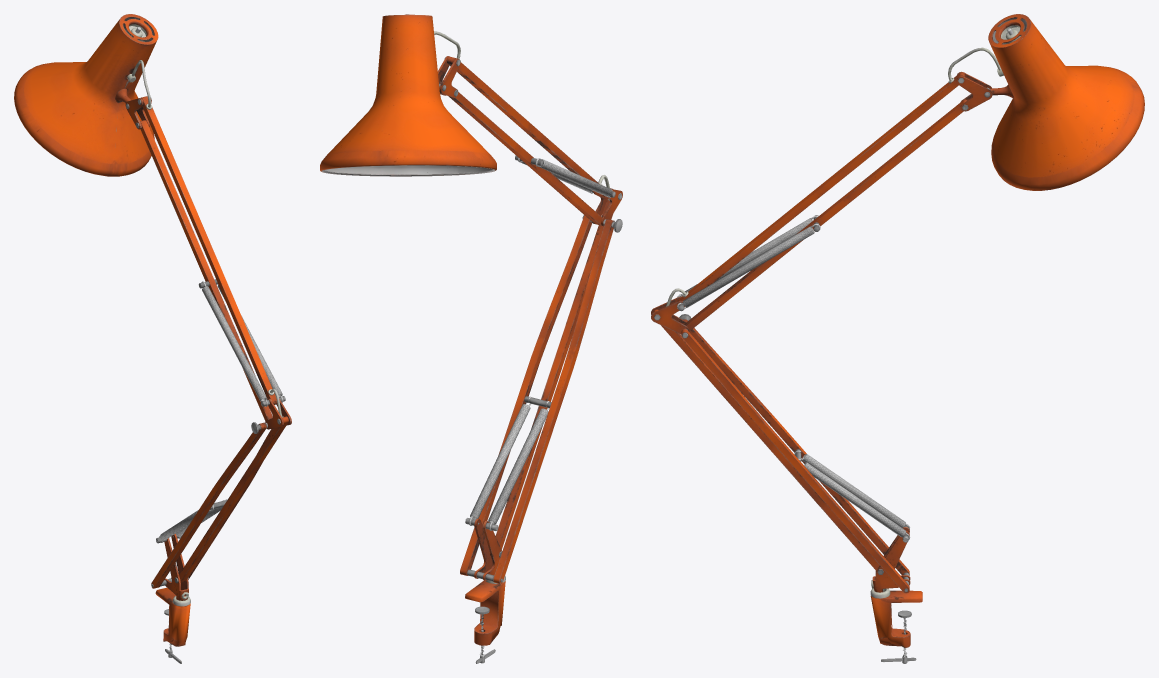
The model's file is desk_lamp_arm_01.glb.
The picture shows the model from 3 angles, left to right: view 1: azimuth 30°, elevation 25°; view 2: azimuth 150°, elevation 25°; view 3: azimuth 270°, elevation 25°; orthographic projection. The views are drawn at different scales.
Visible parts, largest first — view 1: lamp; view 2: lamp; view 3: lamp.
Boxes of the visible parts, <box> form: lamp: <box>14,14,291,663</box>; lamp: <box>320,14,622,663</box>; lamp: <box>651,14,1144,663</box>.
Size of the model in its own units: 0.2019 by 0.8926 by 0.6139.
2 materials, 2 textured.
